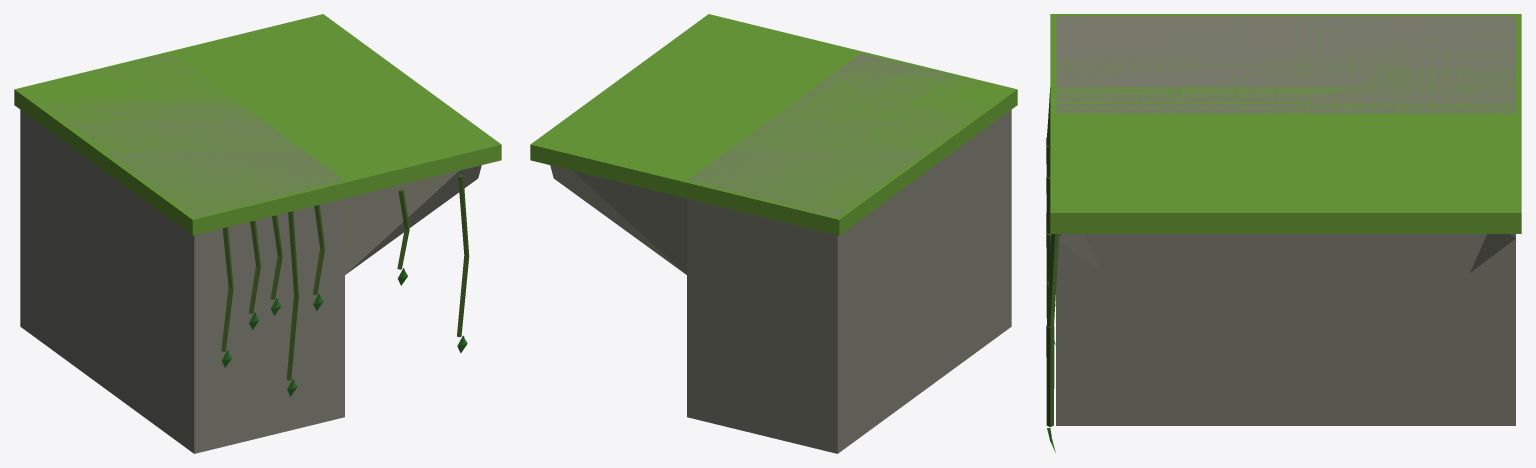
File: overhang.glb
3 renders of one model, left to right at view 1: azimuth 30°, elevation 25°; view 2: azimuth 150°, elevation 25°; view 3: azimuth 270°, elevation 25°, orthographic. The views are drawn at different scales.
Visible parts, largest first — view 1: stone-col, grass-col, vine, leaf; view 2: stone-col, grass-col; view 3: stone-col, grass-col, vine.
Part boxes in pixels (bbox=[...]): stone-col: bbox=[20, 53, 481, 453]; grass-col: bbox=[14, 14, 501, 235]; vine: bbox=[221, 175, 469, 380]; leaf: bbox=[221, 268, 467, 396]; stone-col: bbox=[550, 53, 1011, 453]; grass-col: bbox=[530, 14, 1017, 235]; stone-col: bbox=[1056, 16, 1515, 425]; grass-col: bbox=[1050, 14, 1521, 233]; vine: bbox=[1046, 88, 1059, 427].
Bounding box in the file's own units: 4.1 × 3 × 4.13.
